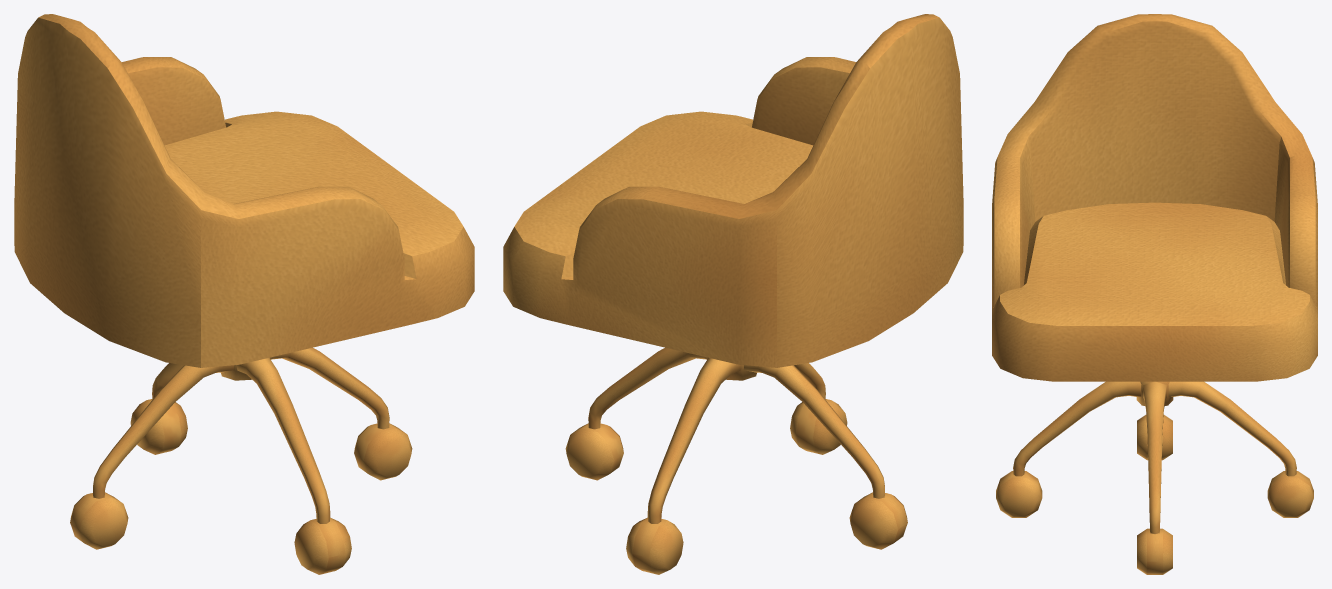
The model's file is DeskChair.glb.
3 renders of one model, left to right at view 1: azimuth 30°, elevation 25°; view 2: azimuth 150°, elevation 25°; view 3: azimuth 270°, elevation 25°, orthographic. The views are drawn at different scales.
Parts seen in each view (by area): view 1: Cylinder.089; view 2: Cylinder.089; view 3: Cylinder.089.
Part boxes in pixels (x1,y1,x2,y2): Cylinder.089: [14, 14, 474, 574]; Cylinder.089: [503, 14, 963, 574]; Cylinder.089: [992, 14, 1317, 574].
Size of what is drawn, in the model's own units: 0.7283 by 1.05 by 0.7161.
1 material, 1 textured.
